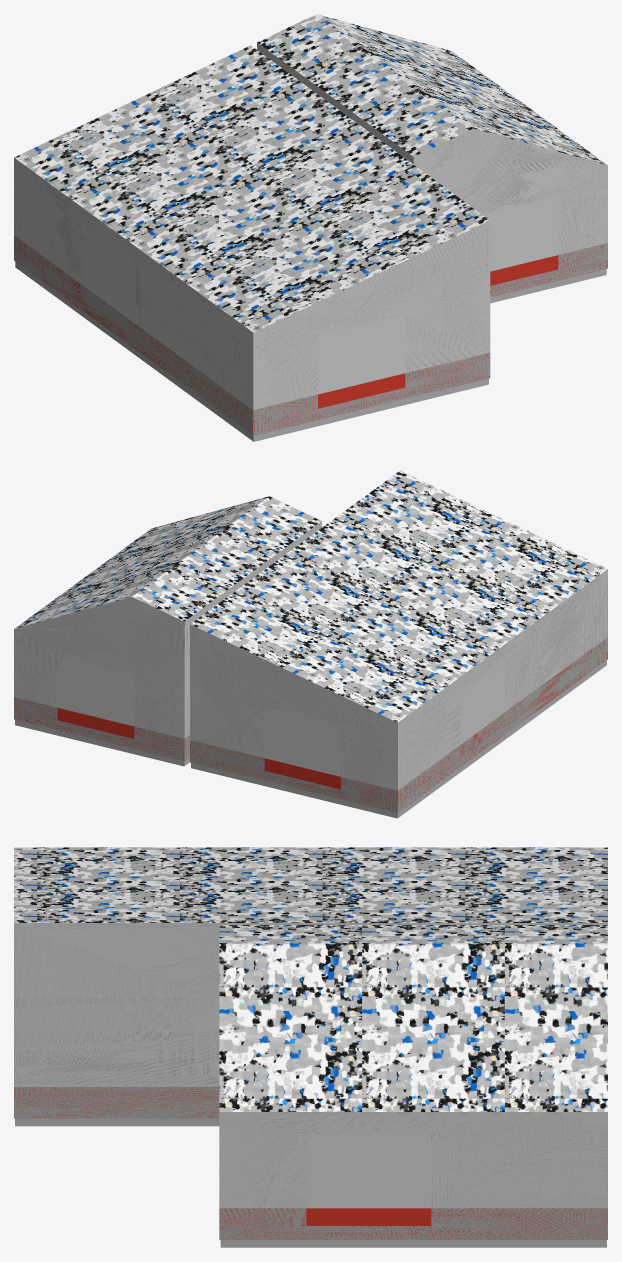
File: escenario.fbx
3 views of the same model, one above another, from view 1: azimuth 30°, elevation 25°; view 2: azimuth 150°, elevation 25°; view 3: azimuth 270°, elevation 25° (orthographic). The views are drawn at different scales.
Parts seen in each view (by area): view 1: Material2, Material2.636, Material2.624, Material2.638, Material2.630, Material2.627, Material3.009, Material2.625, Material3.003, Material3.013, Material3.011, Material2.628 (+9 smaller); view 2: Material2, Material2.637, Material2.629, Material2.624, Material2.638, Material2.627, Material3.010, Material2.625, Material3.002, Material3.011, Material3.013, Material2.628 (+10 smaller); view 3: Material2.625, Material2, Material2.001, Material2.635, Material2.626, Material3.008, Material2.624, Material3, Material2.627, Material3.018, Material2.594, Material2.628 (+4 smaller).
Part boxes in pixels (left/top/right/bottom): Material2: left=14, top=45, right=489, bottom=332; Material2.636: left=253, top=221, right=490, bottom=410; Material2.624: left=15, top=46, right=486, bottom=331; Material2.638: left=14, top=158, right=253, bottom=409; Material2.630: left=413, top=128, right=607, bottom=271; Material2.627: left=257, top=14, right=472, bottom=156; Material3.009: left=253, top=222, right=490, bottom=435; Material2.625: left=317, top=14, right=607, bottom=165; Material3.003: left=413, top=129, right=607, bottom=297; Material3.013: left=14, top=235, right=253, bottom=435; Material3.011: left=14, top=159, right=253, bottom=407; Material2.628: left=258, top=15, right=471, bottom=155; Material2: left=190, top=470, right=607, bottom=722; Material2.637: left=190, top=624, right=397, bottom=790; Material2.629: left=14, top=597, right=184, bottom=738; Material2.624: left=191, top=471, right=604, bottom=721; Material2.638: left=398, top=569, right=607, bottom=790; Material2.627: left=132, top=496, right=321, bottom=621; Material3.010: left=190, top=628, right=397, bottom=813; Material2.625: left=14, top=496, right=268, bottom=628; Material3.002: left=14, top=598, right=184, bottom=760; Material3.011: left=398, top=571, right=607, bottom=788; Material3.013: left=398, top=637, right=607, bottom=812; Material2.628: left=133, top=496, right=320, bottom=619; Material2.625: left=219, top=944, right=607, bottom=1111; Material2: left=14, top=847, right=607, bottom=922; Material2.001: left=219, top=1112, right=607, bottom=1208; Material2.635: left=14, top=923, right=607, bottom=1086; Material2.626: left=219, top=944, right=607, bottom=1111; Material3.008: left=14, top=923, right=606, bottom=1118; Material2.624: left=14, top=847, right=607, bottom=922; Material3: left=219, top=1112, right=607, bottom=1239; Material2.627: left=219, top=925, right=607, bottom=944; Material3.018: left=219, top=1208, right=607, bottom=1239; Material2.594: left=220, top=1240, right=606, bottom=1247; Material2.628: left=219, top=925, right=607, bottom=944.
Bounding box in the file's own units: 42131 × 16606 × 39956.
